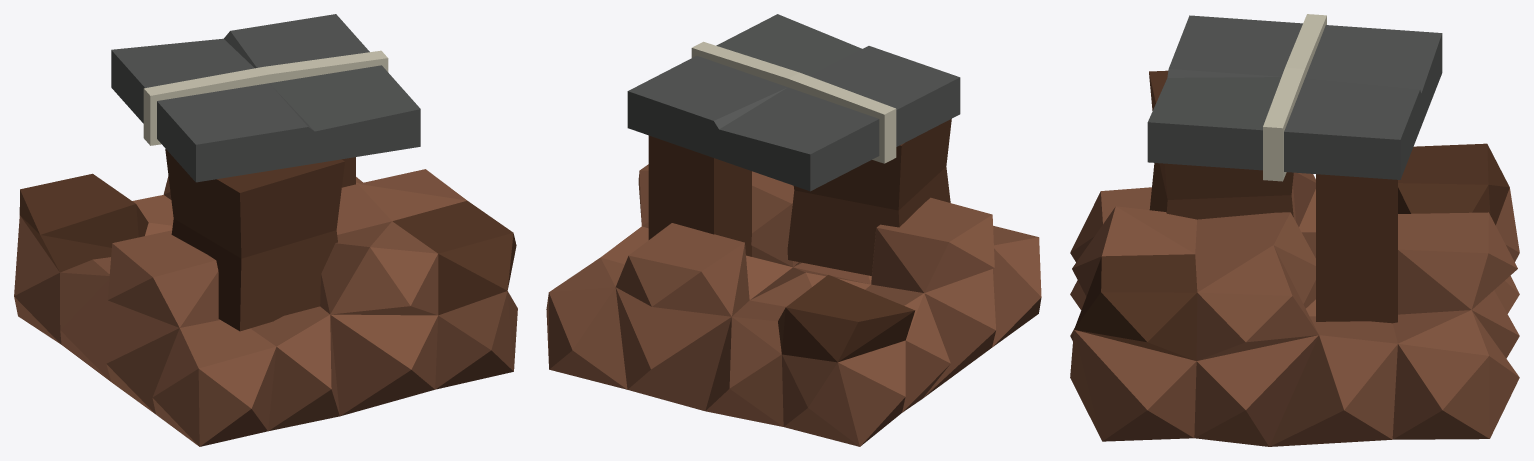
Rendered from LPWarPack_WrappedJunk.fbx.
3 renders of one model, left to right at view 1: azimuth 30°, elevation 25°; view 2: azimuth 150°, elevation 25°; view 3: azimuth 270°, elevation 25°, orthographic. The views are drawn at different scales.
Visible parts, largest first — view 1: WrappedJunk; view 2: WrappedJunk; view 3: WrappedJunk.
Part boxes in pixels (x1=…): WrappedJunk: x1=14, y1=14, x2=517, y2=446; WrappedJunk: x1=546, y1=14, x2=1041, y2=446; WrappedJunk: x1=1070, y1=14, x2=1519, y2=446.
Size of the model in its own units: 114 by 87.27 by 114.
